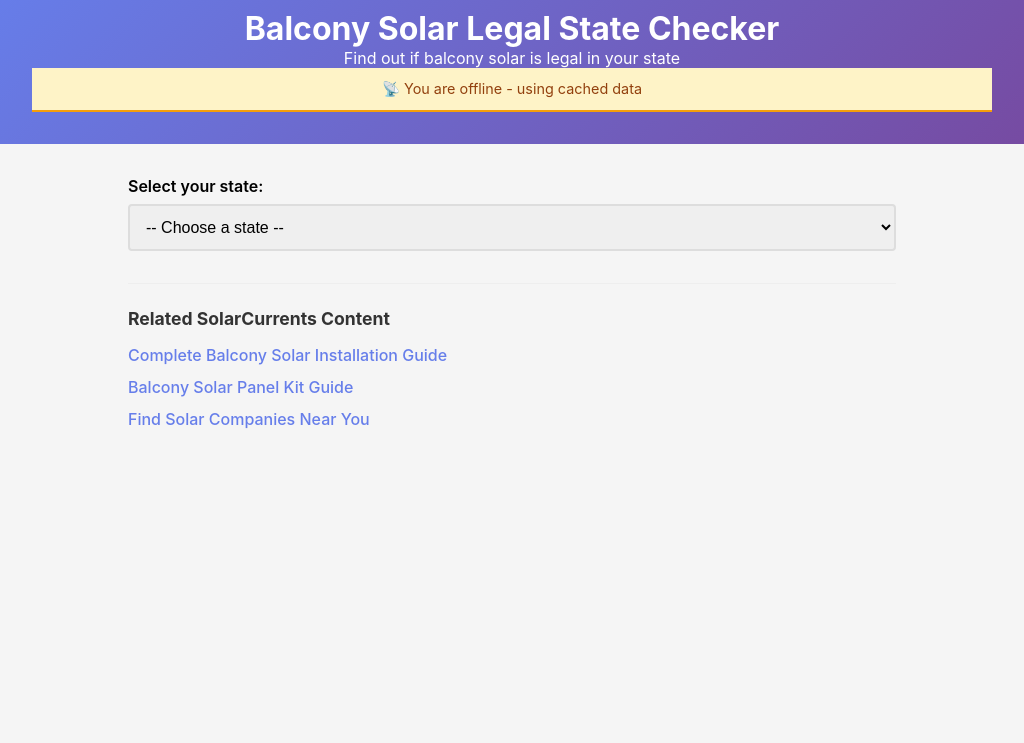
SolarCurrents Integration › Newsletter Subscription CTA › displays CTA button or link for newsletter subscription
This screenshot has width=1024, height=743.
Note: Select Florida
Step 1. Select "Florida" in the dropdown → (512, 228), box [128,204,896,251]
(page scrolled)
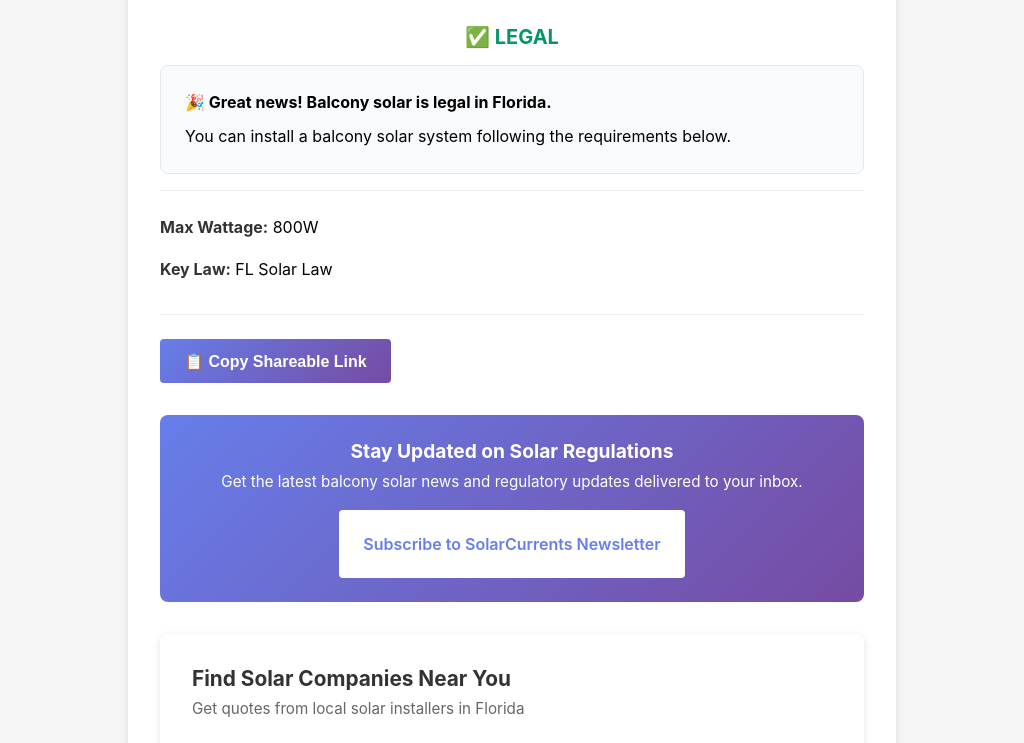
expect the button with test id "copy-url-button" is shown: met, box [160,339,391,383]
